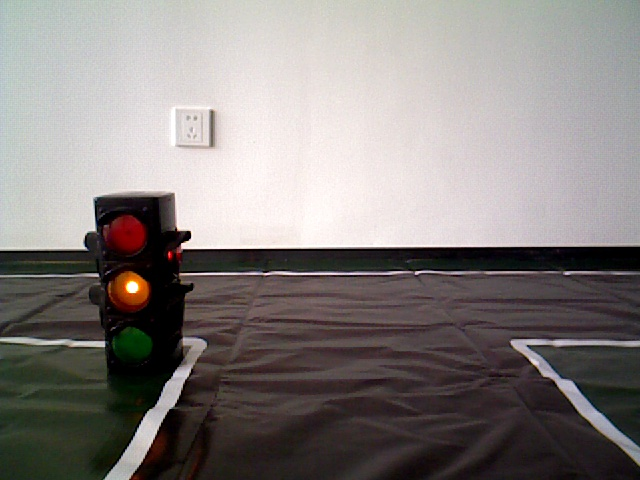yellow: (91, 188, 185, 361)
